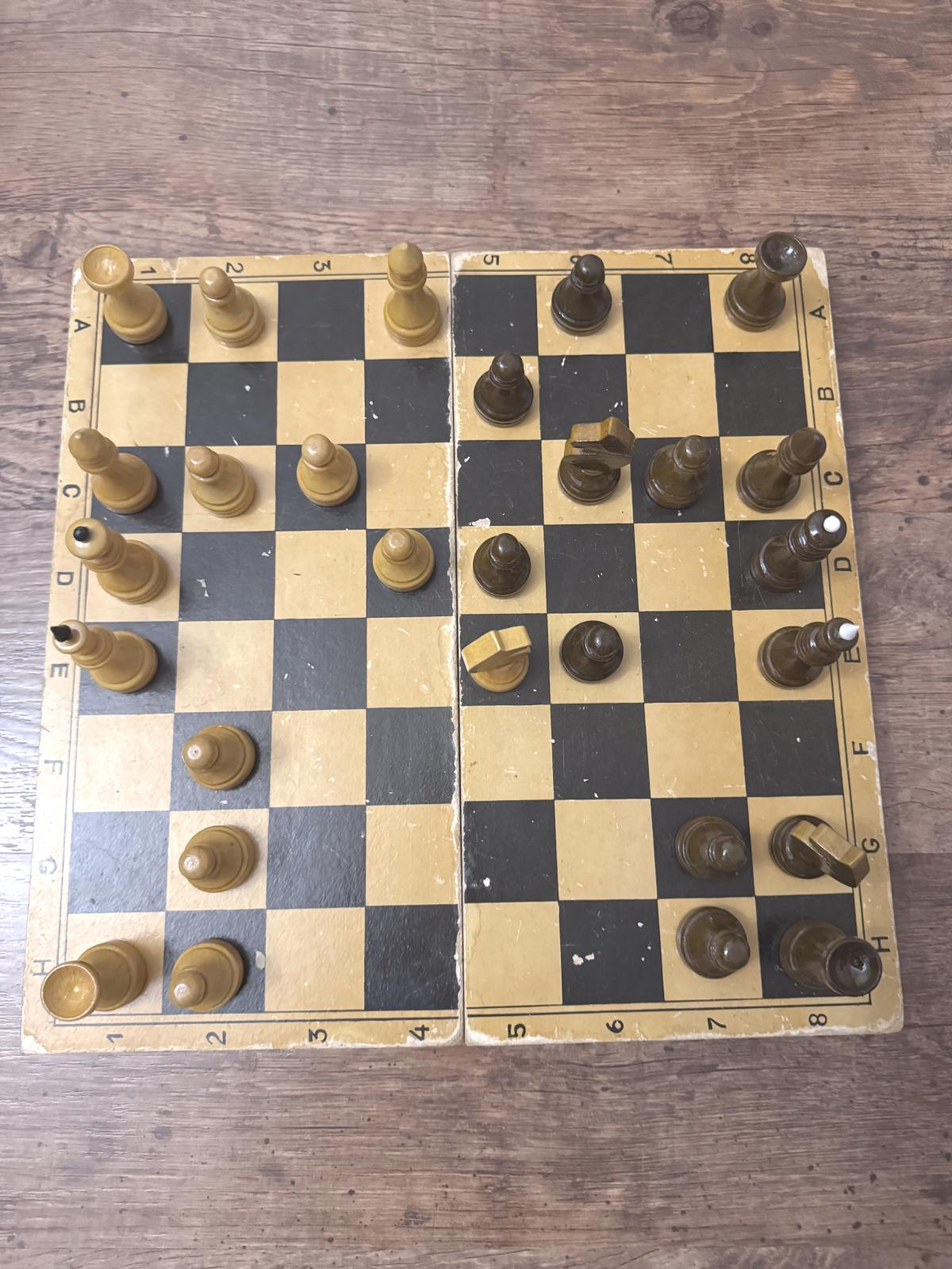Chess-Board: (62, 272, 863, 1017)
